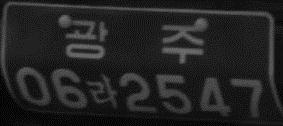0: (14, 66, 50, 106)
2: (118, 72, 155, 113)
4: (198, 76, 230, 117)
5: (156, 74, 191, 115)
6: (52, 69, 87, 110)
7: (230, 76, 262, 119)
광주_D: (65, 19, 203, 63)
라: (88, 73, 116, 110)
